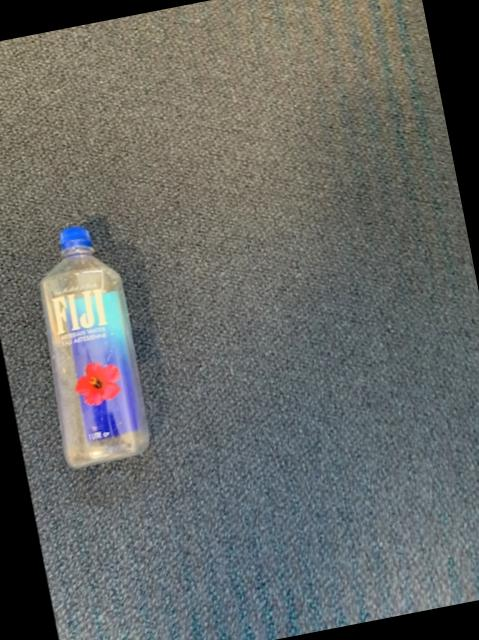plastic: (41, 228, 149, 468)
